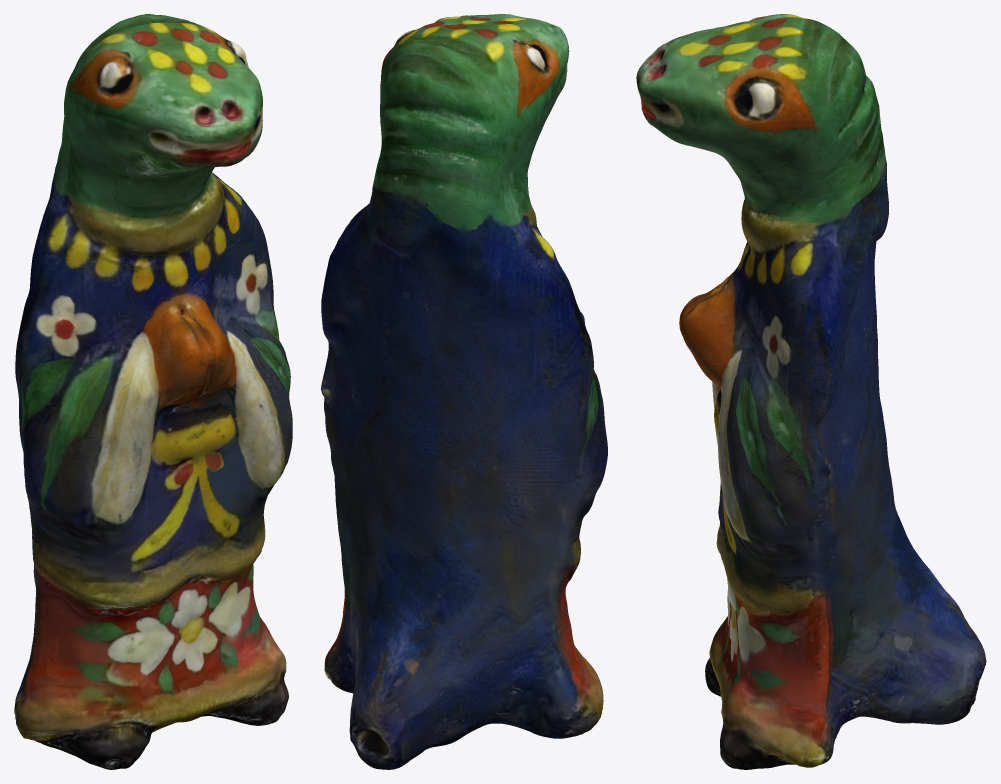
The picture shows the model from 3 angles, left to right: view 1: azimuth 30°, elevation 25°; view 2: azimuth 150°, elevation 25°; view 3: azimuth 270°, elevation 25°; orthographic projection. The views are drawn at different scales.
Bounding box in the file's own units: 0.2175 × 0.5461 × 0.2479.
1 material, 1 textured.
